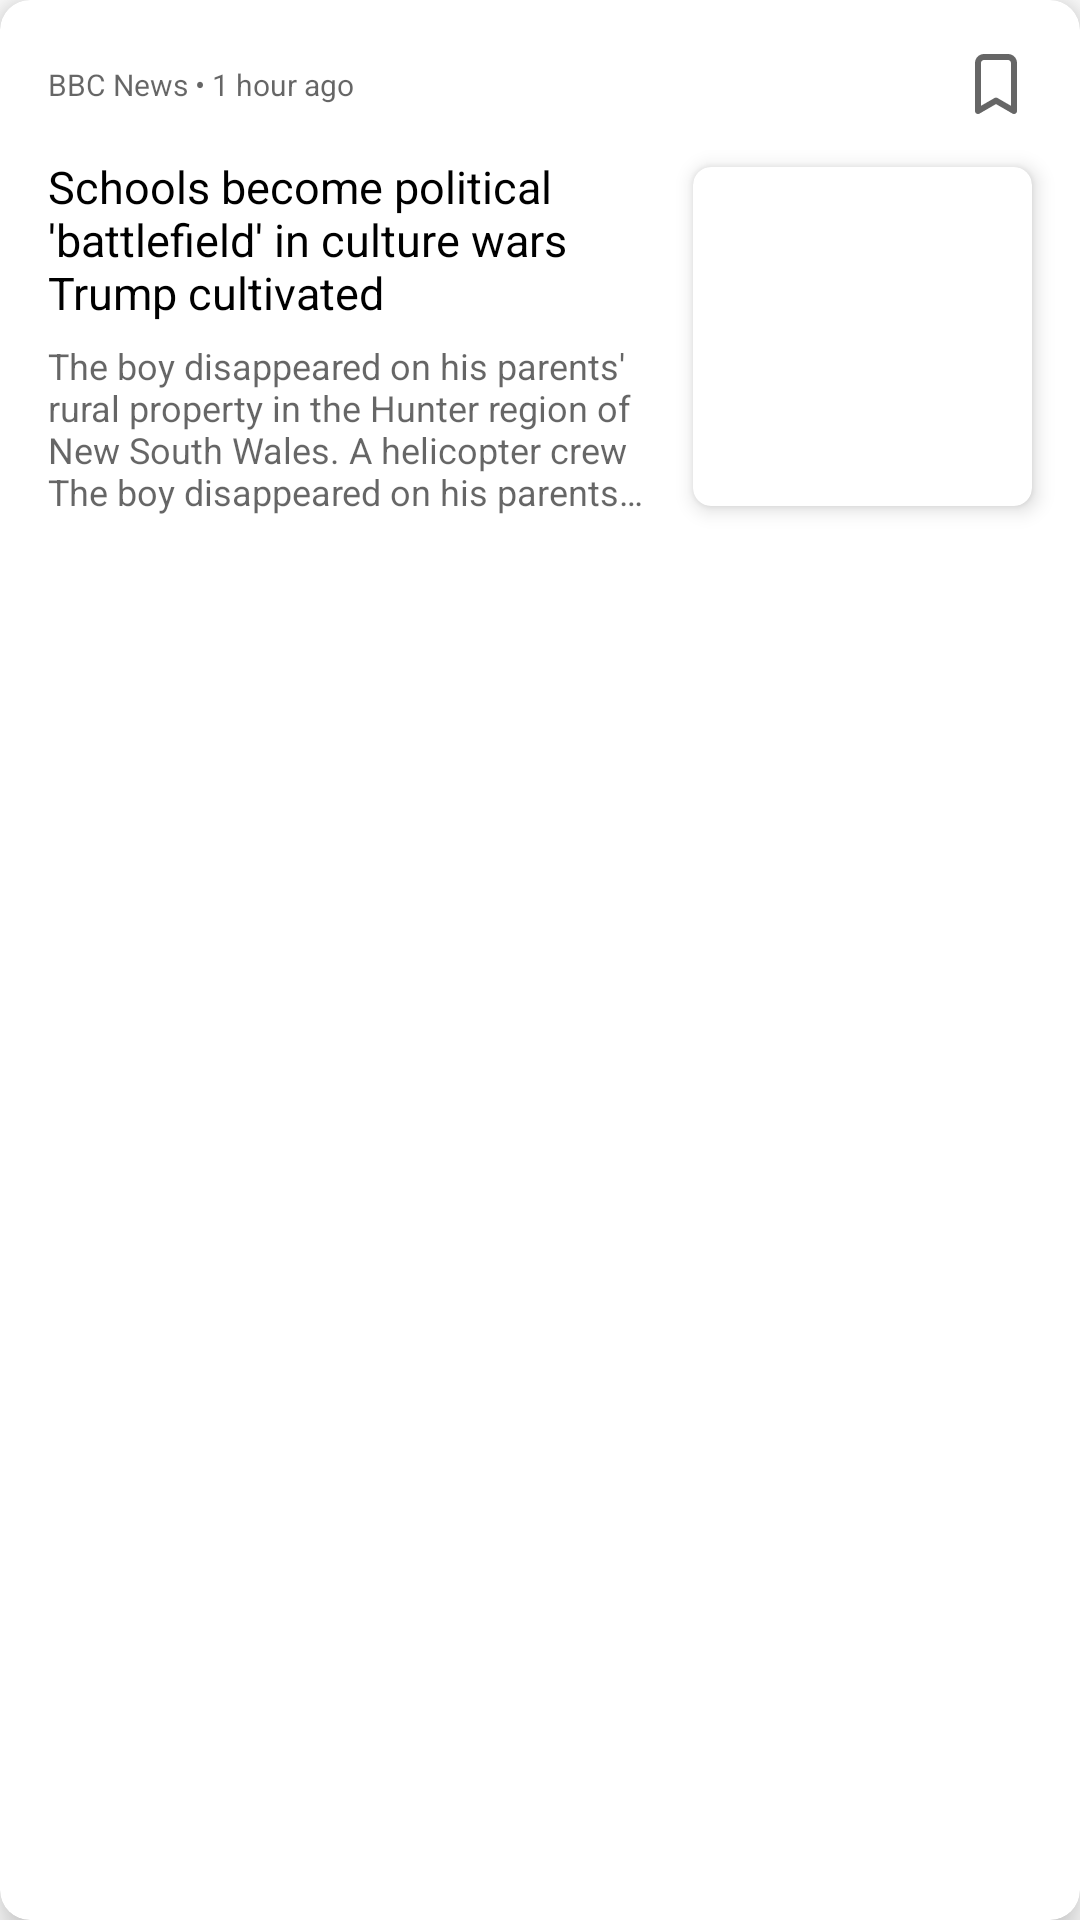

Where to tap for icons on this 1080px x 1920px app screen, as (x=x, y=y):
bookmark: (x=996, y=84)
